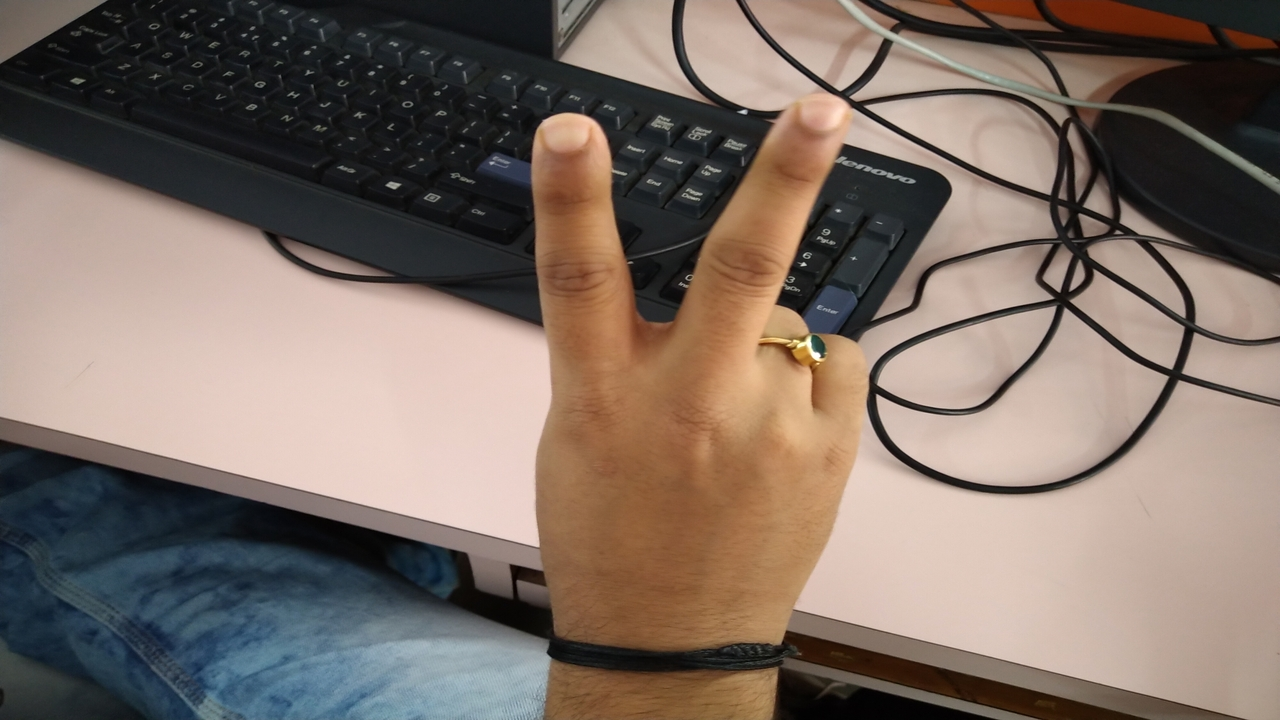fingertip: (776, 84, 860, 156), (530, 106, 606, 182)
